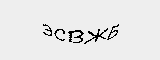Б: (105, 22, 120, 44)
В: (66, 28, 84, 46)
Ж: (85, 27, 107, 45)
С: (54, 27, 68, 43)
Э: (39, 23, 54, 39)
